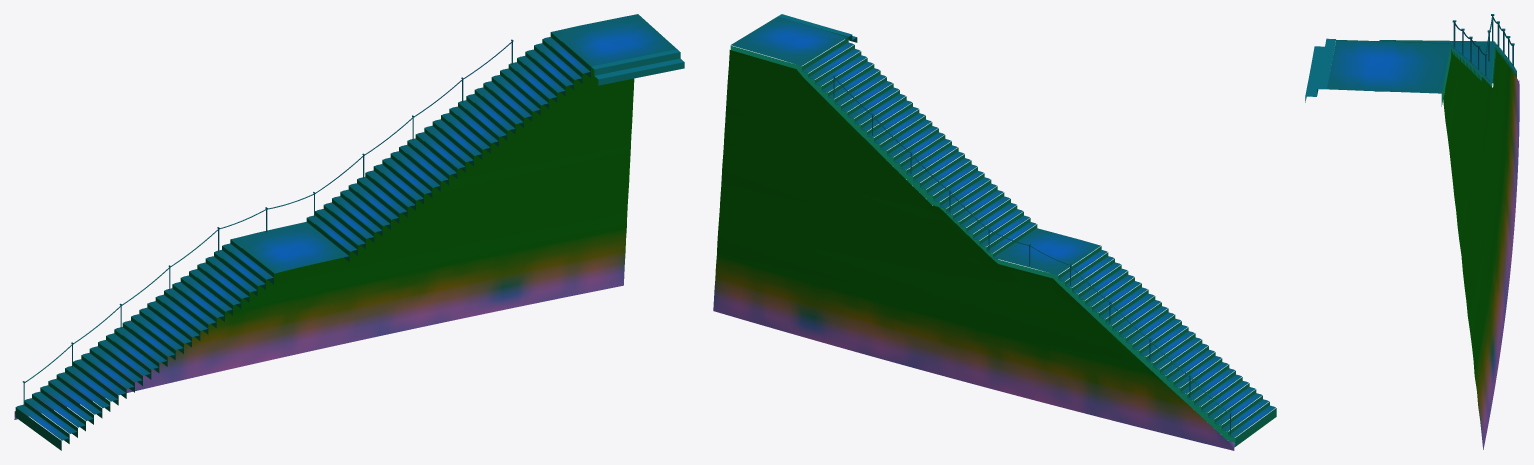
Rendered from fisher_stair.glb.
3 views of the same model, side by side, from view 1: azimuth 30°, elevation 25°; view 2: azimuth 150°, elevation 25°; view 3: azimuth 270°, elevation 25° (orthographic). The views are drawn at different scales.
Visible parts, largest first — view 1: fisher_stair; view 2: fisher_stair; view 3: fisher_stair.
Boxes of the visible parts, x1,y1,x2,y2 form: fisher_stair: (14,14,684,450); fisher_stair: (713,14,1276,450); fisher_stair: (1305,14,1519,449).
Size of what is drawn, in the model's own units: 26.1 by 11.93 by 6.52.
